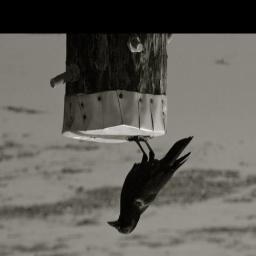Crow: (106, 131, 196, 238)
